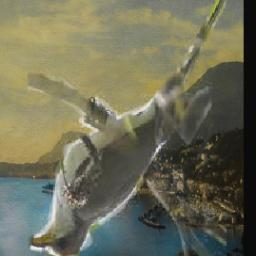Cuckoo: (29, 0, 227, 256)
